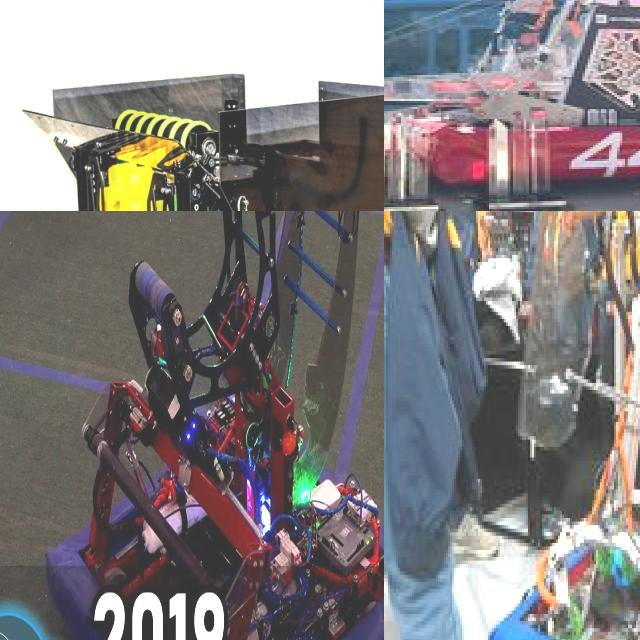FRC-Robots: (17, 211, 384, 640), (450, 211, 640, 640), (0, 42, 384, 211), (401, 0, 640, 206)
